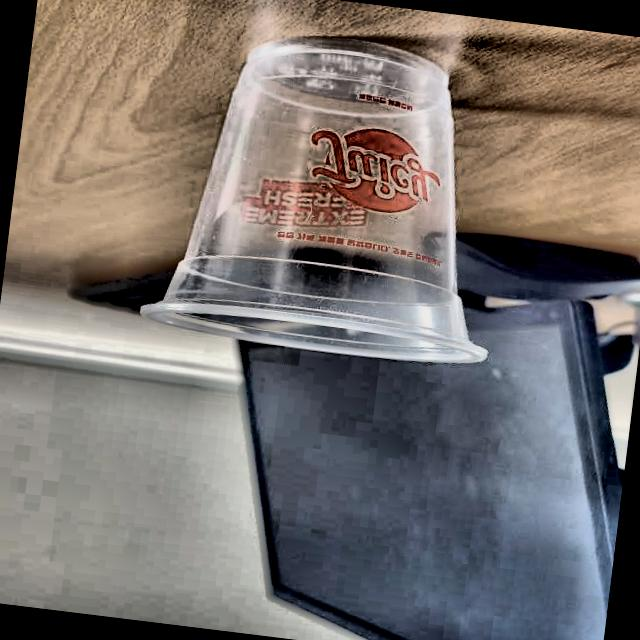plastic cup: (132, 14, 526, 376)
